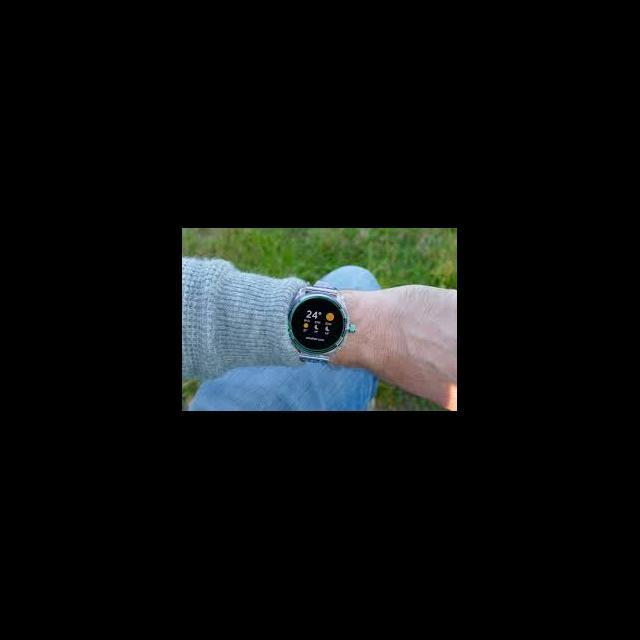watch: (282, 262, 380, 383)
